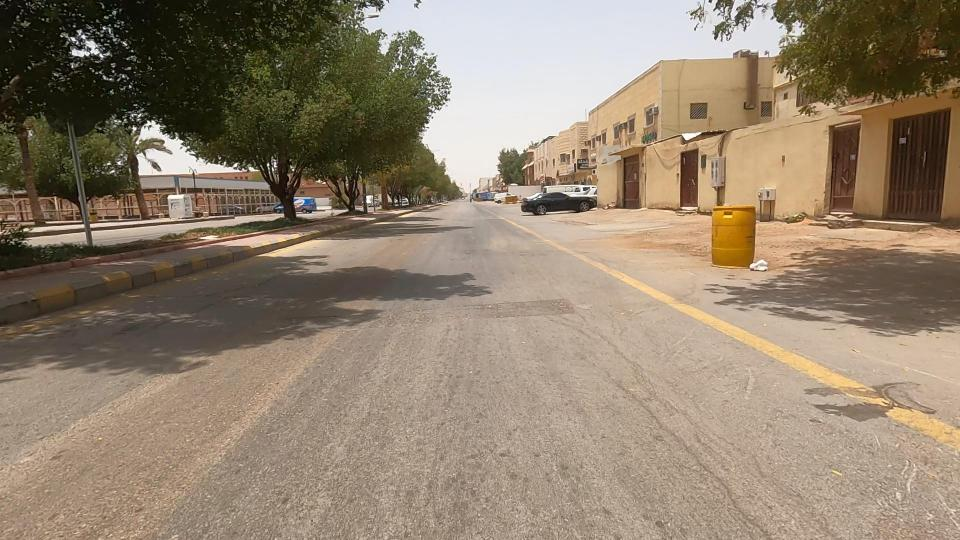GARBAGE: (710, 224, 809, 310), (760, 175, 832, 258)
